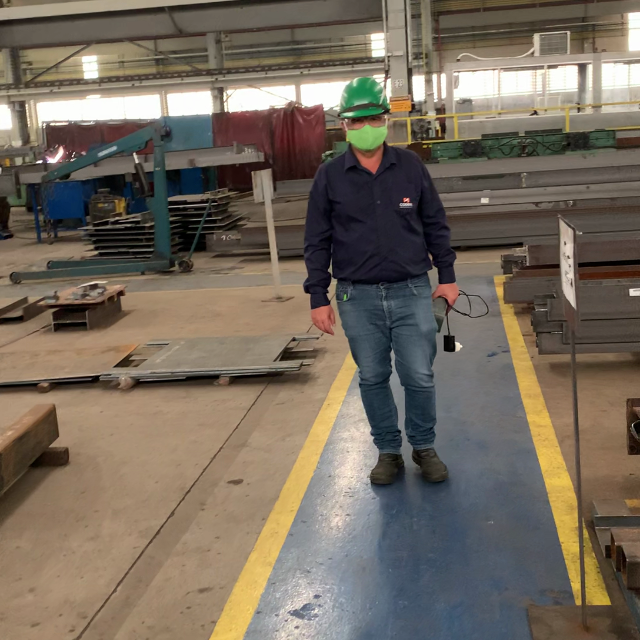eye-glass: (346, 116, 386, 128)
helmet: (337, 77, 390, 118)
mask: (345, 124, 386, 151)
person: (302, 74, 461, 487)
safety-shoe: (410, 446, 450, 485), (369, 448, 407, 485)
